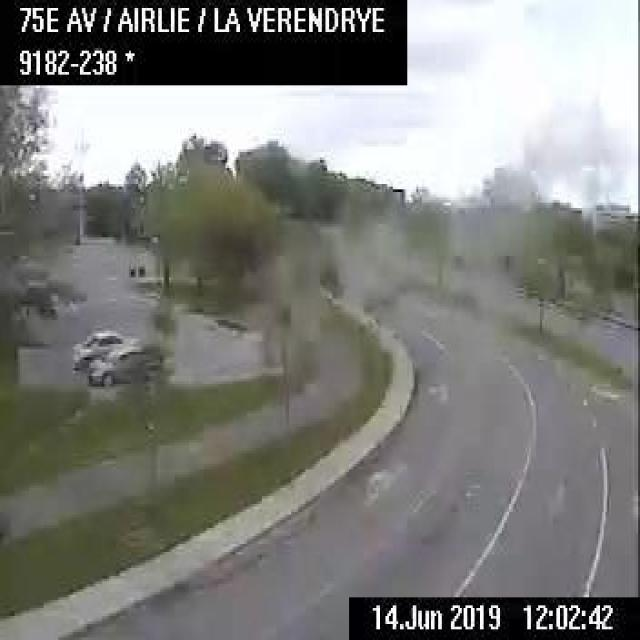vehicle: (86, 338, 154, 383), (71, 326, 137, 364)
